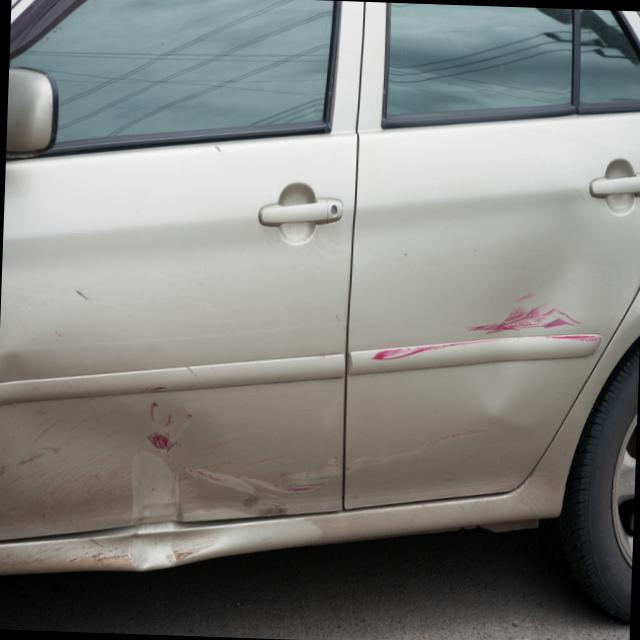Cabossage: (74, 447, 233, 581), (0, 340, 133, 481), (475, 273, 555, 422)
Rayure: (0, 435, 348, 534), (370, 286, 606, 375), (412, 417, 502, 460), (133, 396, 192, 451)
